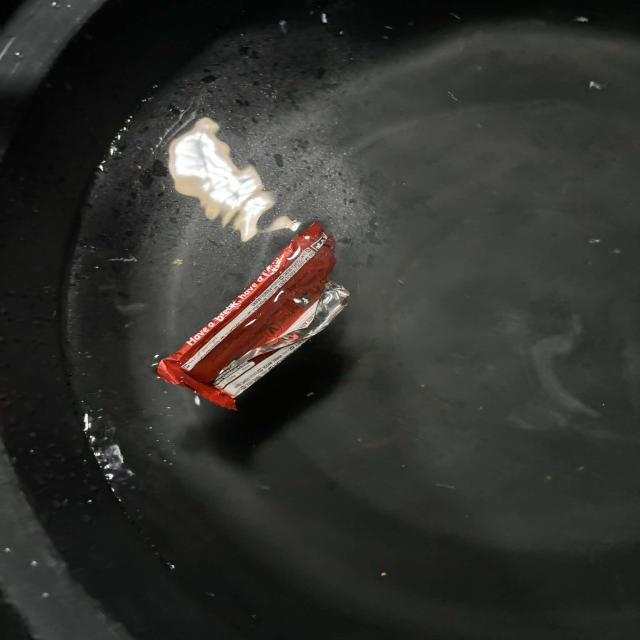Plastic Wrapper: (156, 222, 348, 409)
